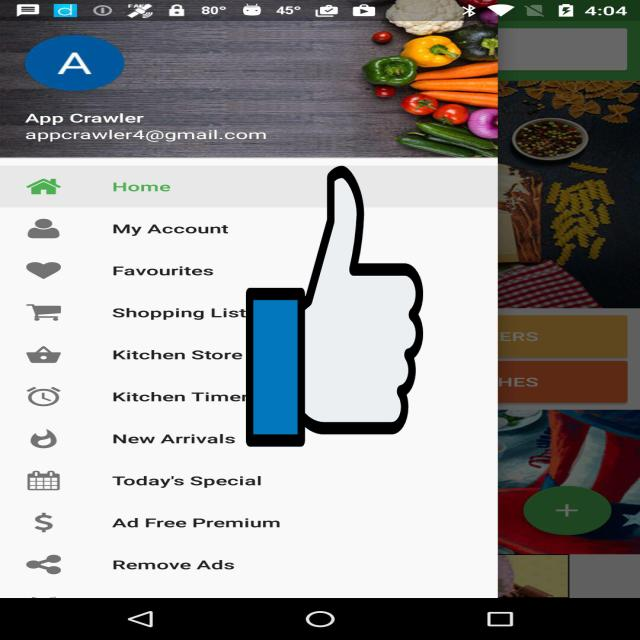privacy zuckering: (246, 160, 423, 452)
